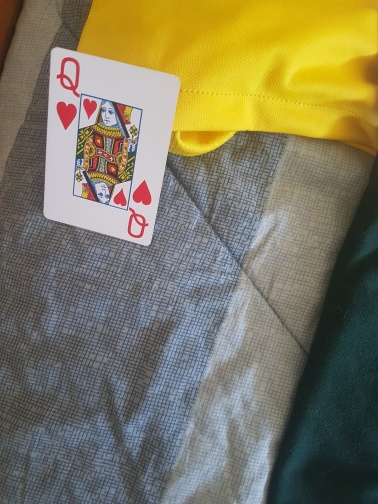queen: (43, 47, 179, 246)
